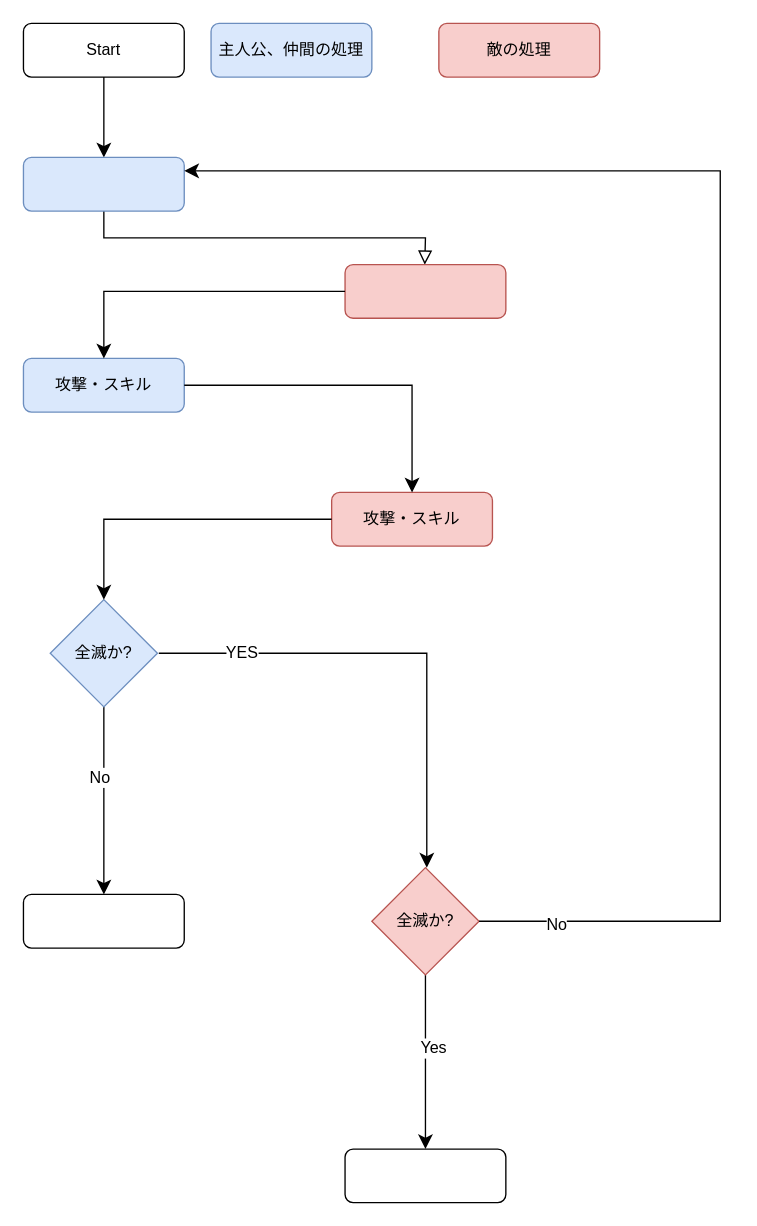
This 757x1226 diagram has some shape labels left out. Each missing label, with the box of its shape:
Game Over...: (22, 893, 184, 948)
ステータスの表示: (22, 156, 184, 211)
ファンファーレ: (344, 1148, 506, 1203)
敵のステータス表示: (344, 263, 506, 318)
